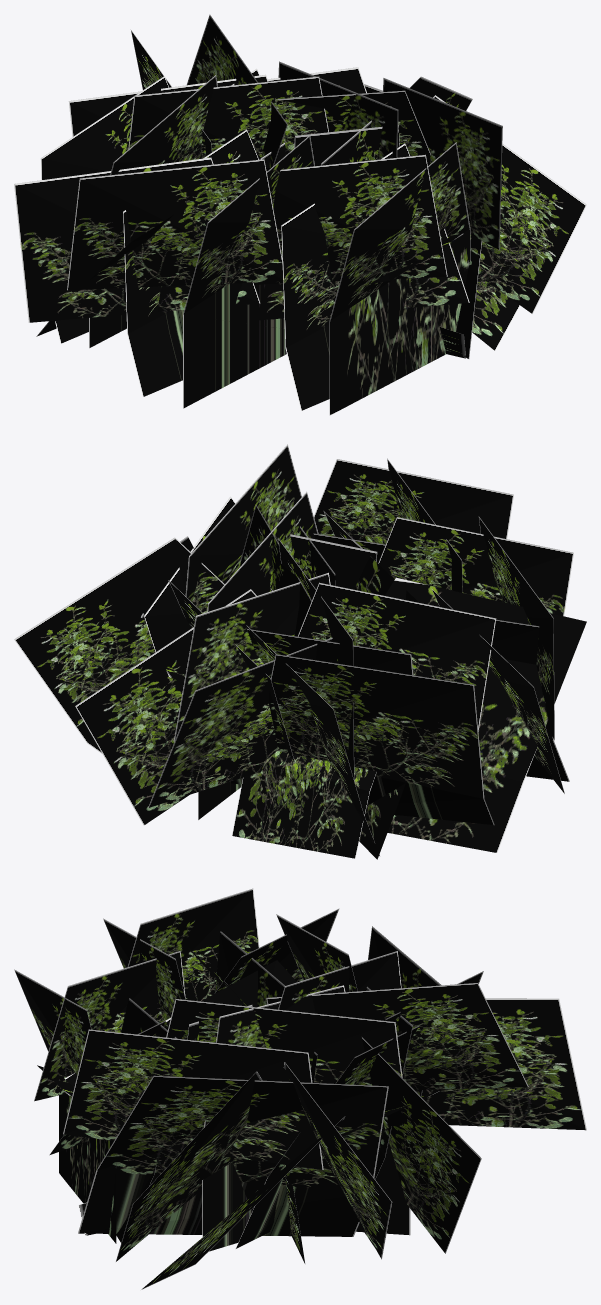
File: genveg_tallgrass10.obj
The picture shows the model from 3 angles, top to bottom: view 1: azimuth 30°, elevation 25°; view 2: azimuth 150°, elevation 25°; view 3: azimuth 270°, elevation 25°; orthographic projection.
Visible parts, largest first — view 1: genVEG_tallgrass10; view 2: genVEG_tallgrass10; view 3: genVEG_tallgrass10.
Part boxes in pixels (<box>): genVEG_tallgrass10: <box>14,14,586,415</box>; genVEG_tallgrass10: <box>14,444,586,859</box>; genVEG_tallgrass10: <box>14,888,586,1289</box>.
Bounding box in the file's own units: 8.51 × 4.1 × 8.44.
Materials: 1 (1 with a texture image).
